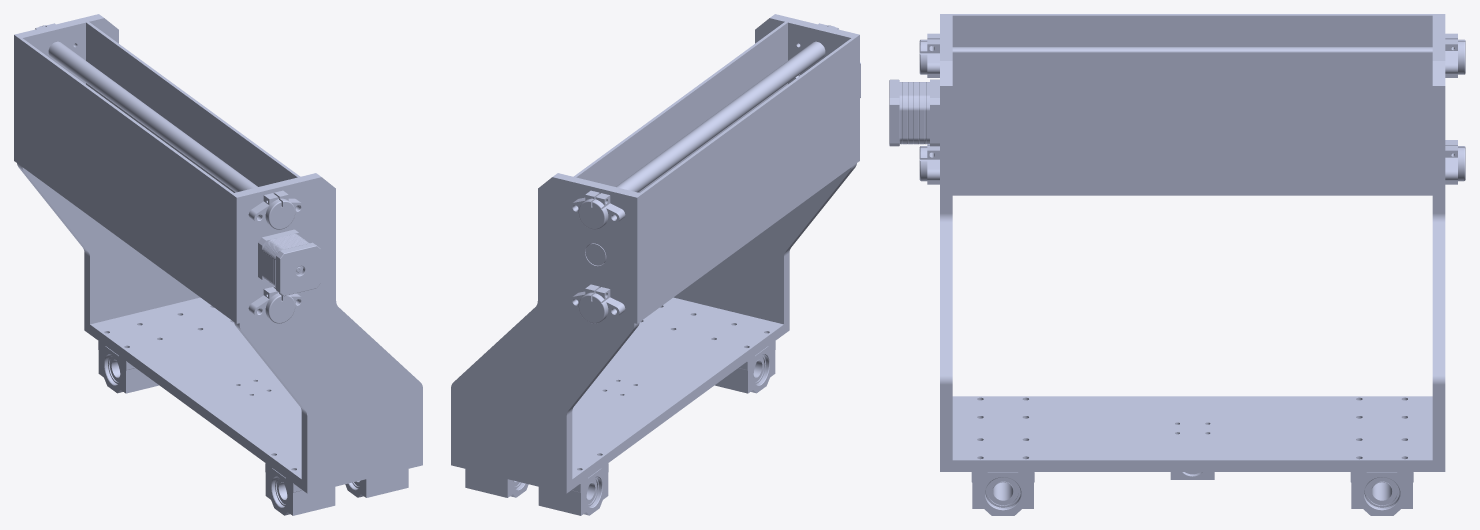
3 views of the same model, side by side, from view 1: azimuth 30°, elevation 25°; view 2: azimuth 150°, elevation 25°; view 3: azimuth 270°, elevation 25° (orthographic). The views are drawn at different scales.
Parts seen in each view (by area): view 1: NAUO14, NAUO17, NAUO18, NAUO19, NAUO15, NAUO10, NAUO13, NAUO3, NAUO1, NAUO8, NAUO4, NAUO7; view 2: NAUO19, NAUO14, NAUO18, NAUO17, NAUO15, NAUO10, NAUO1, NAUO3, NAUO6, NAUO9, NAUO2; view 3: NAUO15, NAUO18, NAUO14, NAUO19, NAUO17, NAUO13, NAUO2, NAUO4, NAUO10, NAUO6, NAUO9, NAUO8 (+1 smaller).
Part boxes in pixels (x1=…): NAUO14: x1=14, y1=34, x2=239, y2=323; NAUO17: x1=234, y1=173, x2=422, y2=483; NAUO18: x1=84, y1=297, x2=422, y2=493; NAUO19: x1=17, y1=14, x2=200, y2=324; NAUO15: x1=86, y1=22, x2=300, y2=192; NAUO10: x1=48, y1=41, x2=289, y2=223; NAUO13: x1=258, y1=229, x2=320, y2=296; NAUO3: x1=265, y1=463, x2=335, y2=515; NAUO1: x1=98, y1=341, x2=158, y2=393; NAUO8: x1=248, y1=190, x2=303, y2=230; NAUO4: x1=345, y1=469, x2=408, y2=497; NAUO7: x1=248, y1=286, x2=303, y2=324; NAUO19: x1=451, y1=173, x2=639, y2=483; NAUO14: x1=634, y1=34, x2=859, y2=323; NAUO18: x1=451, y1=297, x2=789, y2=493; NAUO17: x1=673, y1=14, x2=856, y2=324; NAUO15: x1=573, y1=22, x2=787, y2=192; NAUO10: x1=584, y1=41, x2=825, y2=223; NAUO1: x1=538, y1=463, x2=608, y2=515; NAUO3: x1=715, y1=341, x2=775, y2=393; NAUO6: x1=570, y1=190, x2=625, y2=230; NAUO9: x1=570, y1=284, x2=625, y2=324; NAUO2: x1=465, y1=469, x2=528, y2=497; NAUO15: x1=952, y1=51, x2=1432, y2=195; NAUO18: x1=940, y1=396, x2=1445, y2=471; NAUO14: x1=940, y1=14, x2=1445, y2=46; NAUO19: x1=1432, y1=15, x2=1445, y2=460; NAUO17: x1=940, y1=15, x2=952, y2=460; NAUO13: x1=889, y1=79, x2=939, y2=146; NAUO2: x1=1350, y1=472, x2=1413, y2=515; NAUO4: x1=971, y1=472, x2=1034, y2=515; NAUO10: x1=952, y1=47, x2=1432, y2=50; NAUO6: x1=1445, y1=33, x2=1465, y2=77; NAUO9: x1=1445, y1=140, x2=1465, y2=184; NAUO8: x1=919, y1=33, x2=939, y2=77.
Size of the model in its own units: 0.193 by 0.3485 by 0.456.
